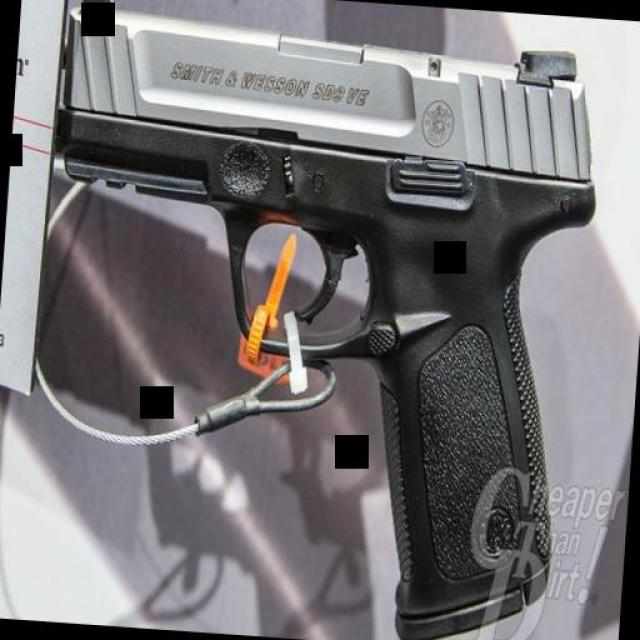gun: (21, 0, 606, 640)
